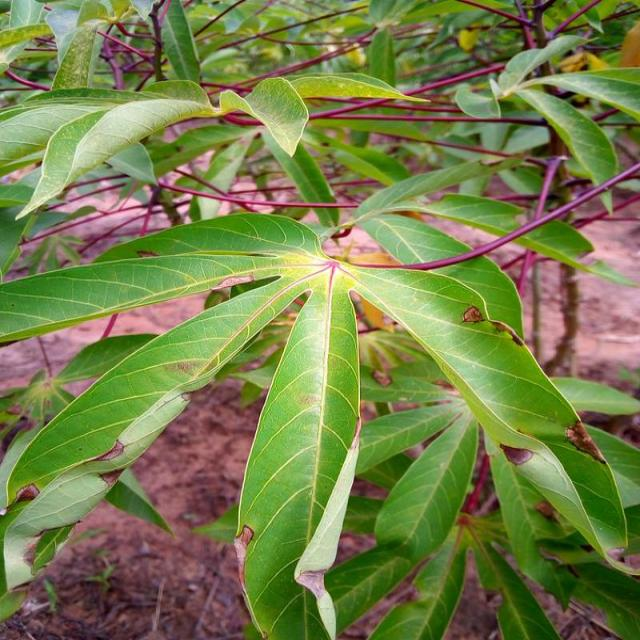cassava leaf: (234, 260, 362, 638)
